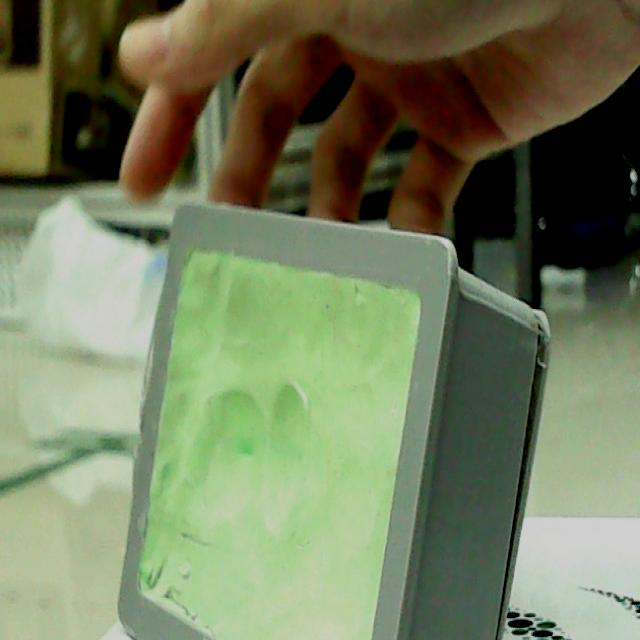block: (133, 194, 525, 640)
